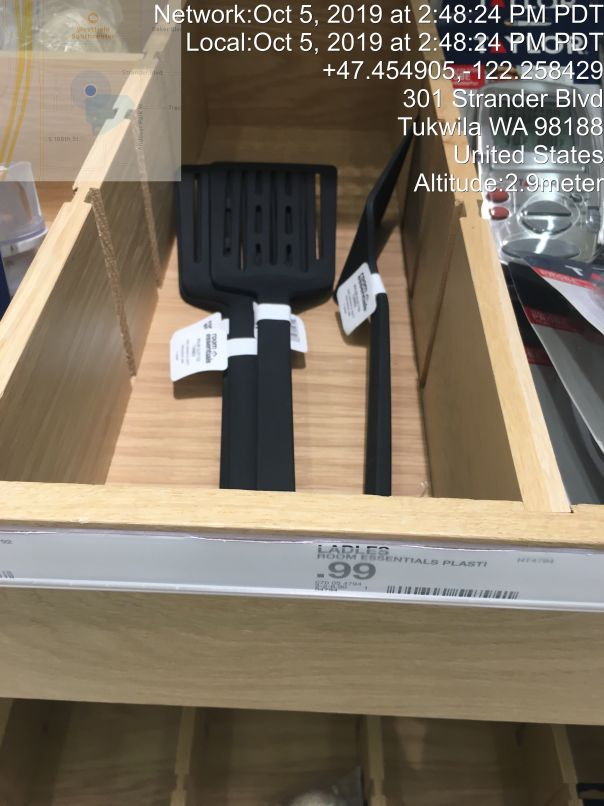Label: (300, 536, 532, 622)
Ladles: (179, 139, 416, 498)
Location: (394, 83, 604, 169)
Time: (148, 1, 604, 57)
